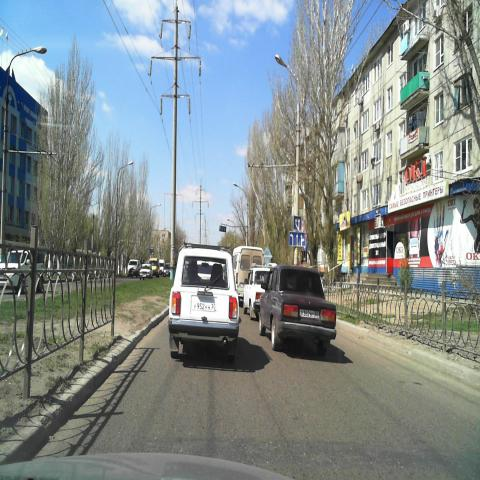5_15_3: (293, 216, 301, 230)
